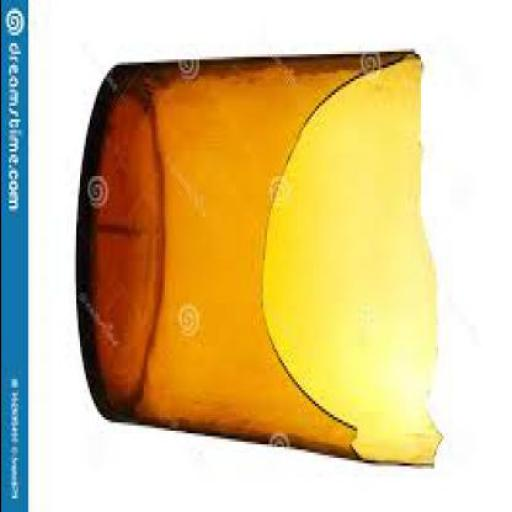glass: (77, 48, 442, 466)
